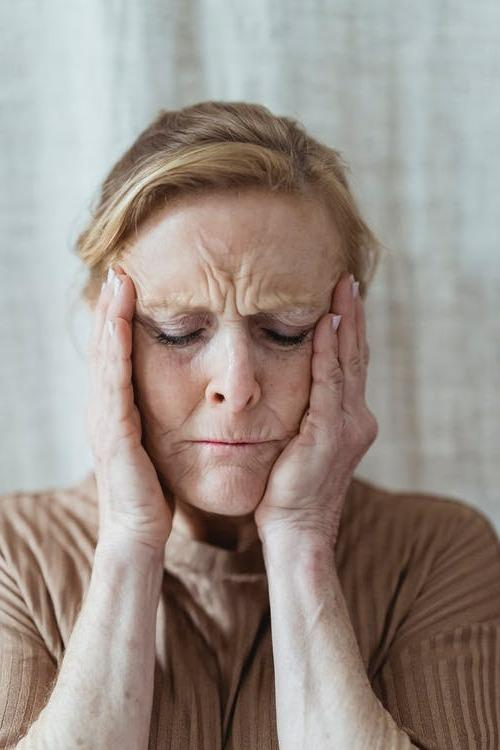Wrinkles: (220, 271, 241, 319), (264, 404, 287, 430), (179, 401, 201, 428), (208, 265, 224, 300), (243, 272, 252, 312), (256, 275, 263, 304), (204, 272, 210, 302), (223, 292, 228, 314)
